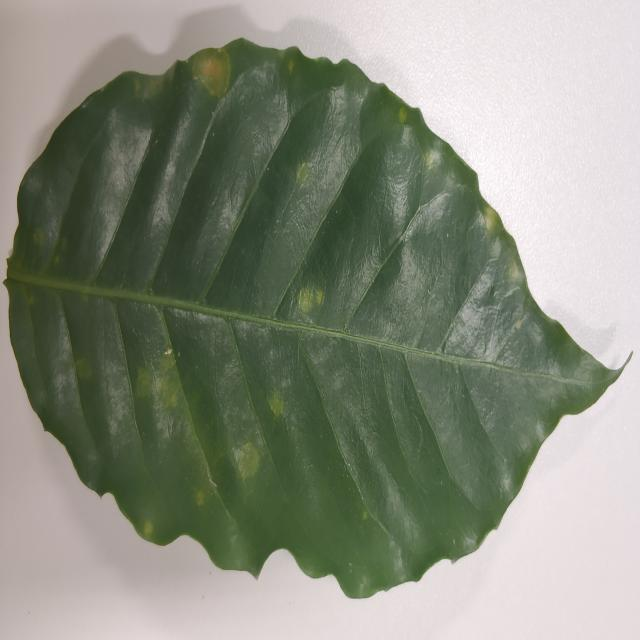Enfermedad-Roya: (3, 39, 623, 602)
